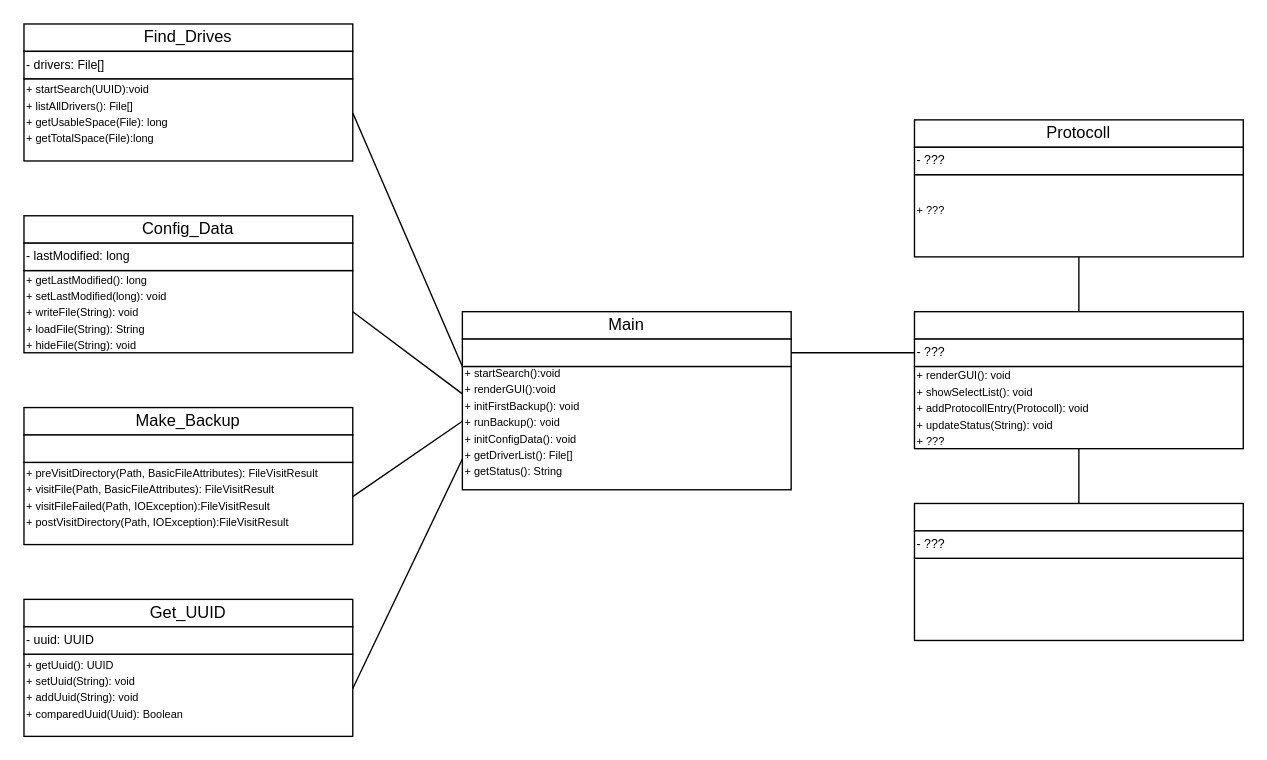
This 1267x760 diagram has some shape labels left out. Each missing label, with the centre of its shape:
+ renderGUI(): void + ???: the point at 1078,598
Gui: the point at 1078,516
View: the point at 1078,324
